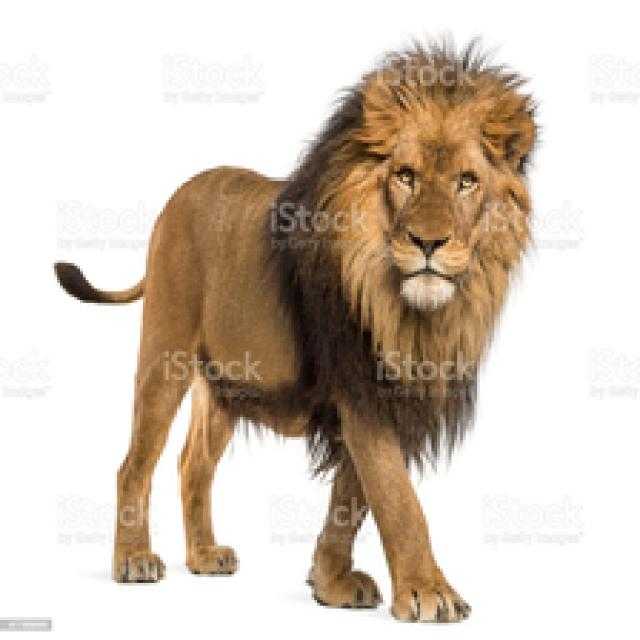lion: (62, 34, 582, 623)
